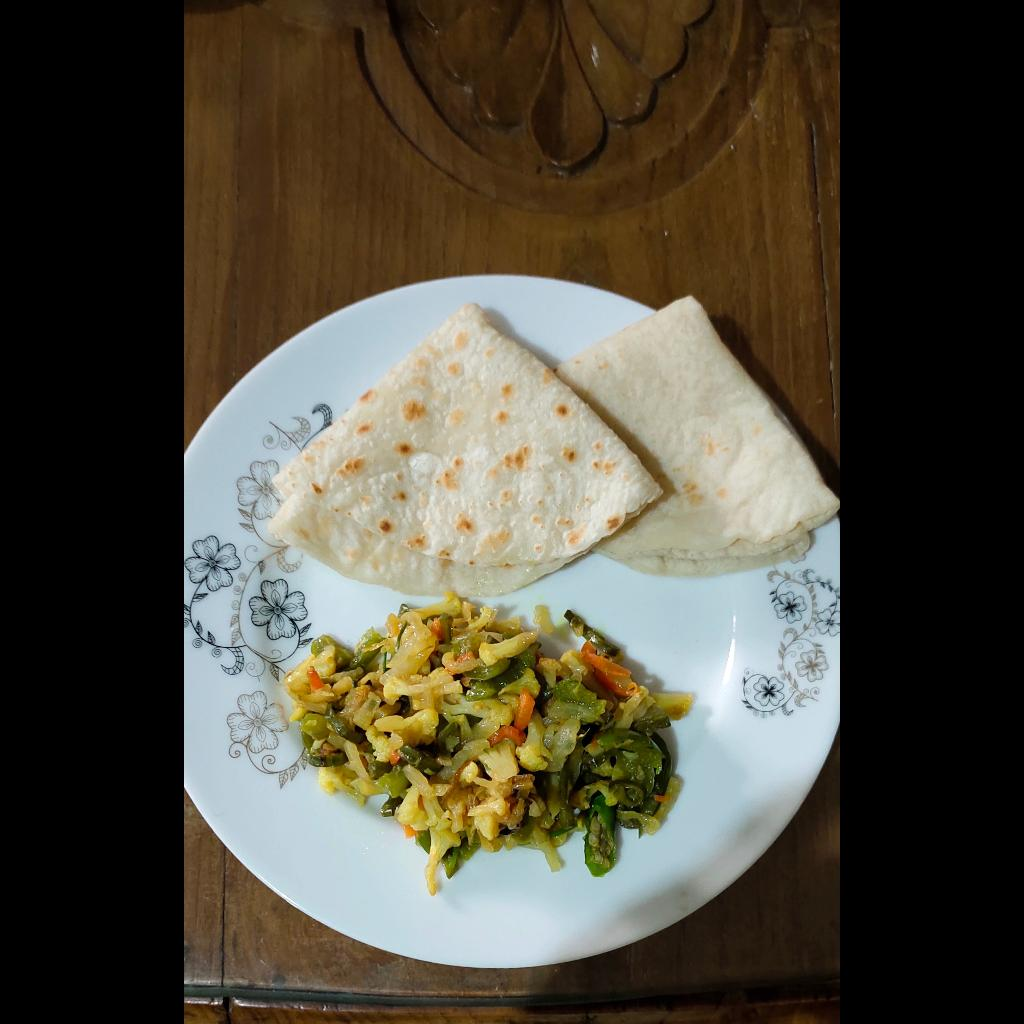ruti: (259, 288, 839, 602)
vegetable: (287, 590, 708, 902)
